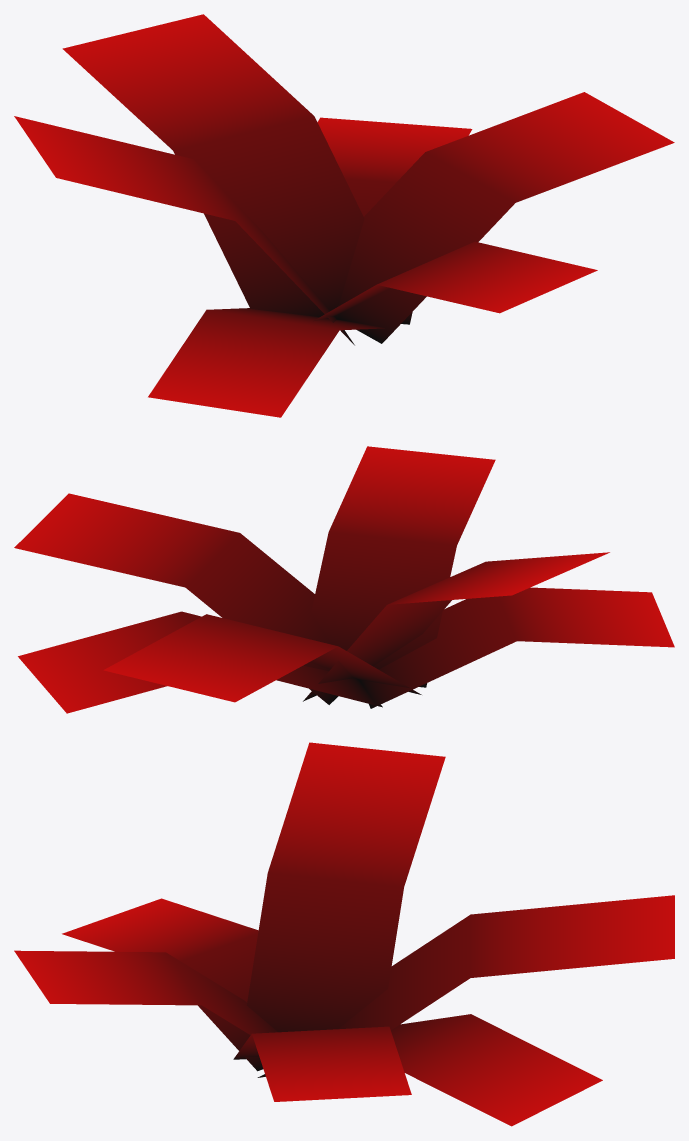
The model's file is SM_Grass_08.fbx.
3 views of the same model, one above another, from view 1: azimuth 30°, elevation 25°; view 2: azimuth 150°, elevation 25°; view 3: azimuth 270°, elevation 25° (orthographic). The views are drawn at different scales.
Parts seen in each view (by area): view 1: SM_Nature_Grass_08; view 2: SM_Nature_Grass_08; view 3: SM_Nature_Grass_08.
Boxes of the visible parts, x1=… form: SM_Nature_Grass_08: x1=14, y1=14, x2=674, y2=417; SM_Nature_Grass_08: x1=14, y1=446, x2=674, y2=713; SM_Nature_Grass_08: x1=14, y1=742, x2=674, y2=1126.
Bounding box in the file's own units: 31.21 × 10.22 × 32.29.
